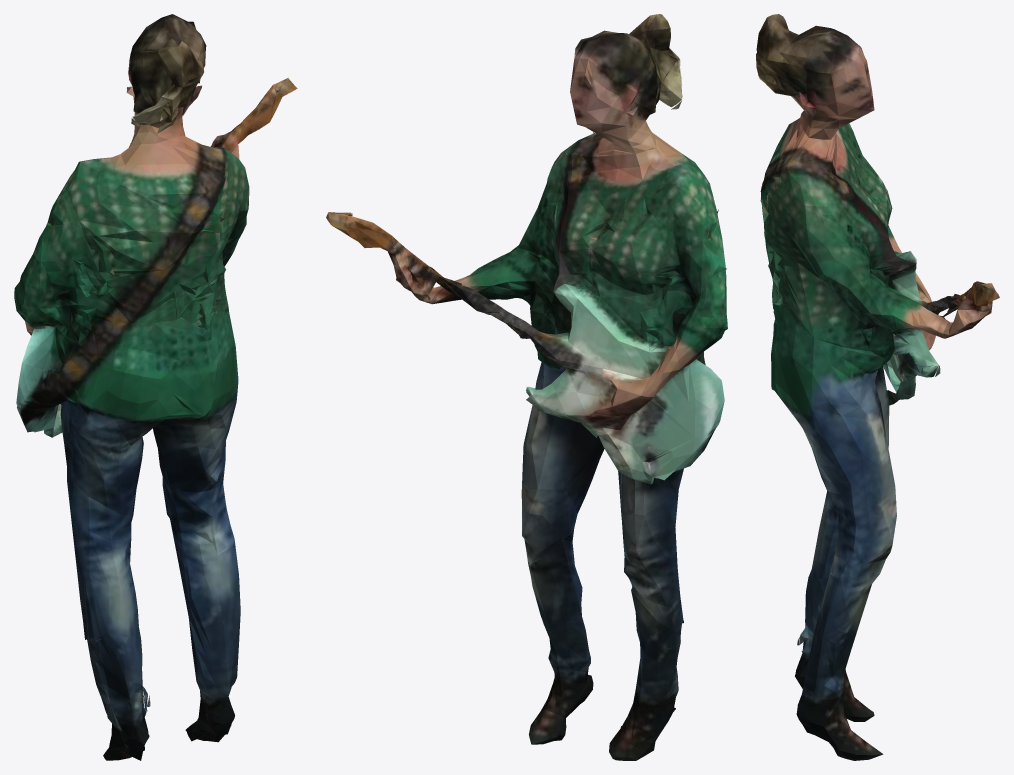
3 renders of one model, left to right at view 1: azimuth 30°, elevation 25°; view 2: azimuth 150°, elevation 25°; view 3: azimuth 270°, elevation 25°, orthographic. The views are drawn at different scales.
Visible parts, largest first — view 1: dec_0008; view 2: dec_0008; view 3: dec_0008.
Part boxes in pixels (x1,y1,x2,y2): dec_0008: [14, 14, 297, 760]; dec_0008: [326, 14, 727, 760]; dec_0008: [756, 14, 999, 760].
Bounding box in the file's own units: 0.8329 × 1.71 × 0.532.
Materials: 1 (1 with a texture image).
